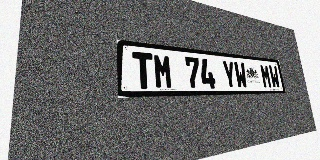4: (199, 58, 216, 89)
7: (184, 57, 202, 89)
M: (153, 53, 173, 89), (259, 64, 272, 88)
T: (132, 51, 154, 89)
W: (233, 61, 248, 88), (268, 65, 281, 88)
Y: (221, 60, 237, 88)
